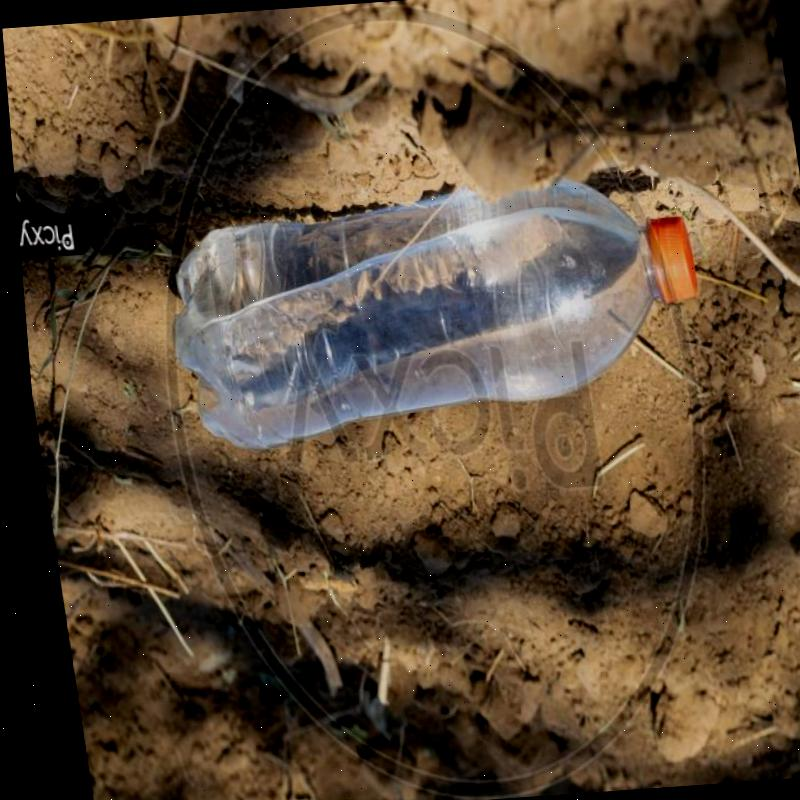botella: (143, 163, 714, 454)
